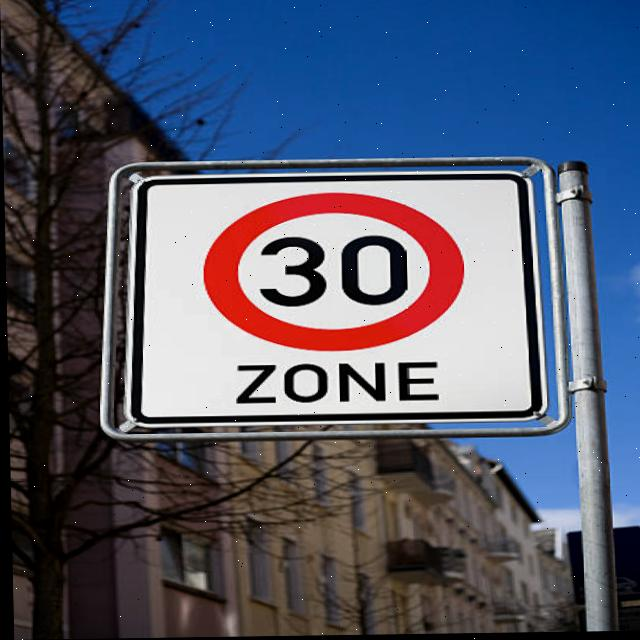Speed limit 30: (199, 190, 467, 355)
